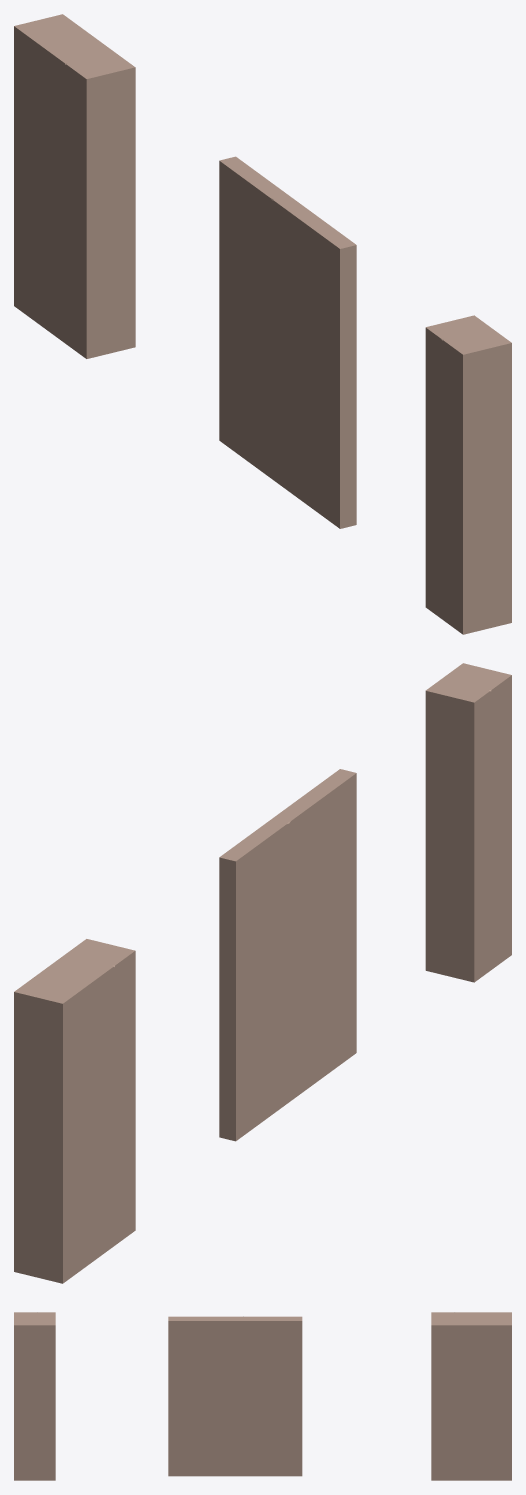
Rendered from Nivel15.fbx.
3 views of the same model, one above another, from view 1: azimuth 30°, elevation 25°; view 2: azimuth 150°, elevation 25°; view 3: azimuth 270°, elevation 25° (orthographic). The views are drawn at different scales.
Parts seen in each view (by area): view 1: Plataforma-M.041, Plataforma-M.035, Plataforma-M.040; view 2: Plataforma-M.041, Plataforma-M.035, Plataforma-M.040; view 3: Plataforma-M.041, Plataforma-M.035, Plataforma-M.040.
Part boxes in pixels (x1=…): Plataforma-M.041: x1=219, y1=156, x2=356, y2=528; Plataforma-M.035: x1=14, y1=14, x2=135, y2=358; Plataforma-M.040: x1=425, y1=315, x2=511, y2=634; Plataforma-M.041: x1=219, y1=769, x2=356, y2=1141; Plataforma-M.035: x1=14, y1=939, x2=135, y2=1283; Plataforma-M.040: x1=425, y1=663, x2=511, y2=982; Plataforma-M.041: x1=168, y1=1316, x2=302, y2=1476; Plataforma-M.035: x1=431, y1=1312, x2=511, y2=1480; Plataforma-M.040: x1=14, y1=1312, x2=55, y2=1480.
Bounding box in the file's own units: 1215 × 6652 × 19343.
